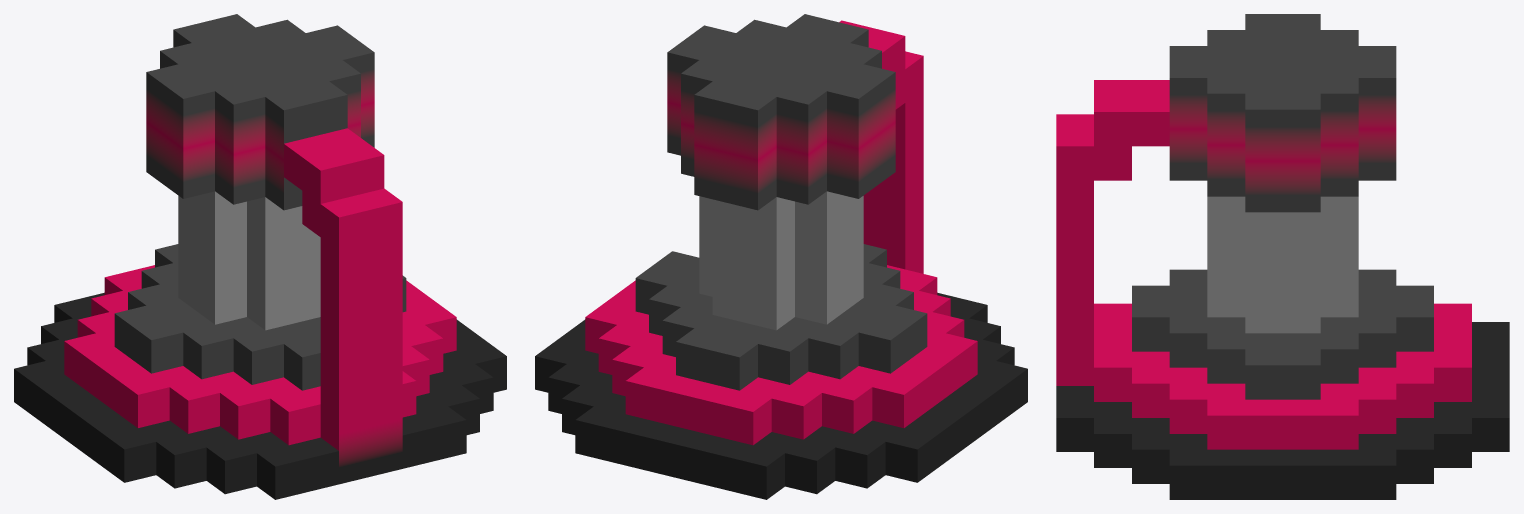
Rendered from HpUp_Base.dae.
3 views of the same model, side by side, from view 1: azimuth 30°, elevation 25°; view 2: azimuth 150°, elevation 25°; view 3: azimuth 270°, elevation 25° (orthographic). The views are drawn at different scales.
Parts seen in each view (by area): view 1: Matrix; view 2: Matrix; view 3: Matrix.
Part boxes in pixels (x1,y1,x2,y2): Matrix: [14, 14, 506, 499]; Matrix: [535, 14, 1027, 499]; Matrix: [1056, 14, 1509, 499].
Bounding box in the file's own units: 12 × 10 × 12.
